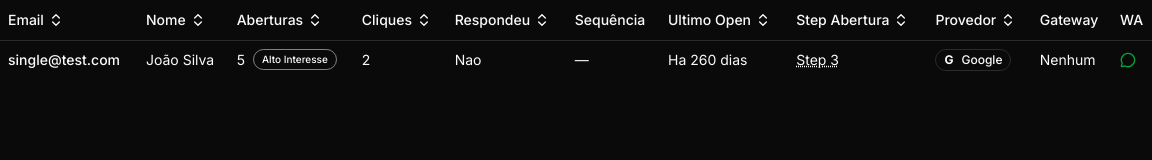
Scenario: LeadTrackingTable › coluna WhatsApp (Story 11.7 AC #3) › tooltip mostra 'WhatsApp enviado em' para mensagem unica
Hover over the element with test id "whatsapp-indicator" at [1120, 52], box [1120,52,1136,68]
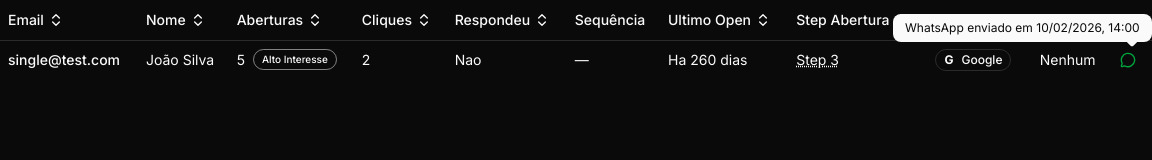
Result: the tooltip shows "WhatsApp enviado em" at [905,20,1140,35]
